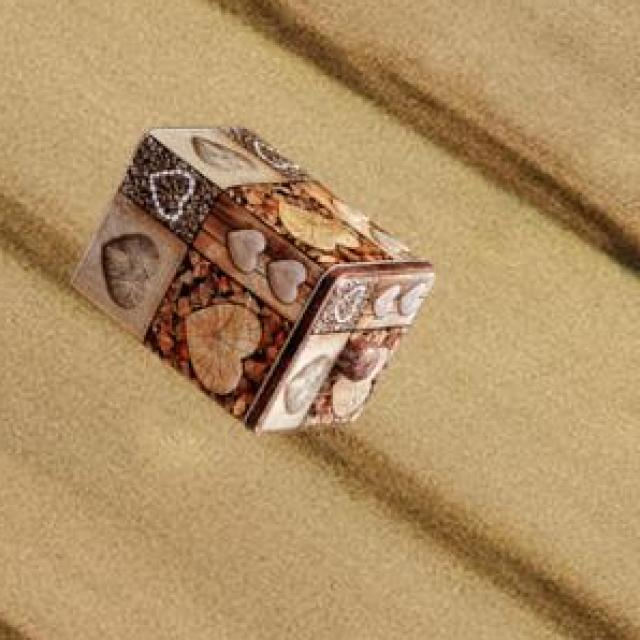logam: (74, 130, 439, 437)
